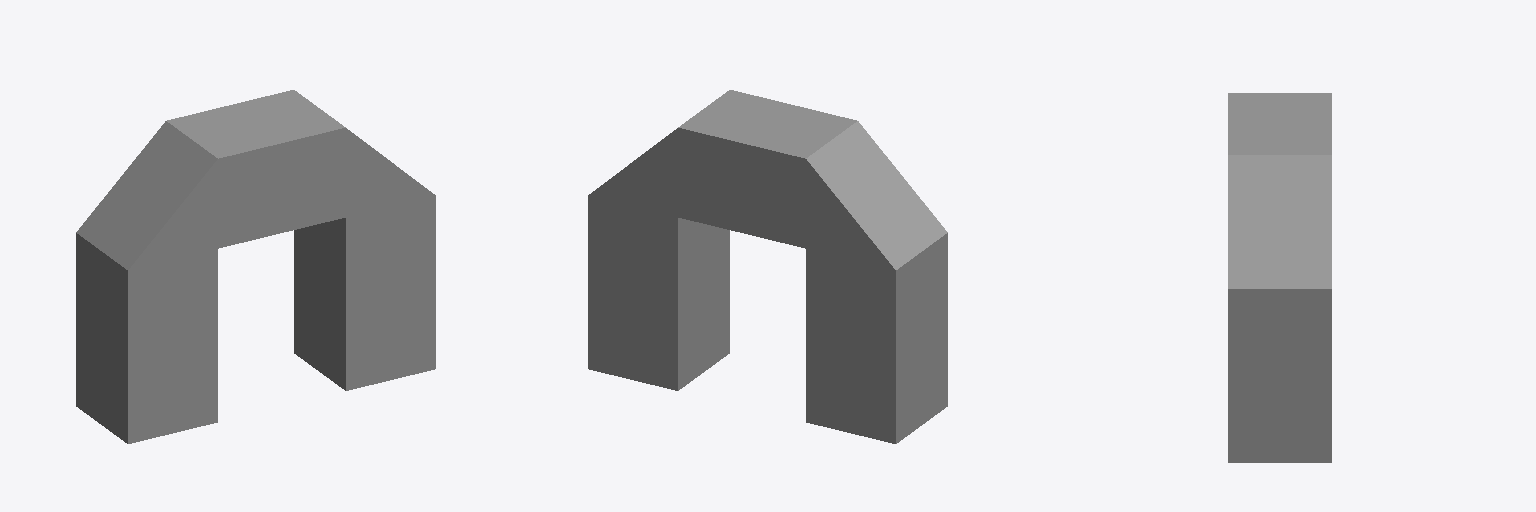
Rendered from gate.obj.
3 renders of one model, left to right at view 1: azimuth 30°, elevation 25°; view 2: azimuth 150°, elevation 25°; view 3: azimuth 270°, elevation 25°, orthographic.
Visible parts, largest first — view 1: Cube; view 2: Cube; view 3: Cube.
Boxes of the visible parts, <box> form: Cube: <box>76,90,435,443</box>; Cube: <box>588,90,947,443</box>; Cube: <box>1228,93,1331,462</box>.
Size of the model in its own units: 6.84 by 5.6 by 2.